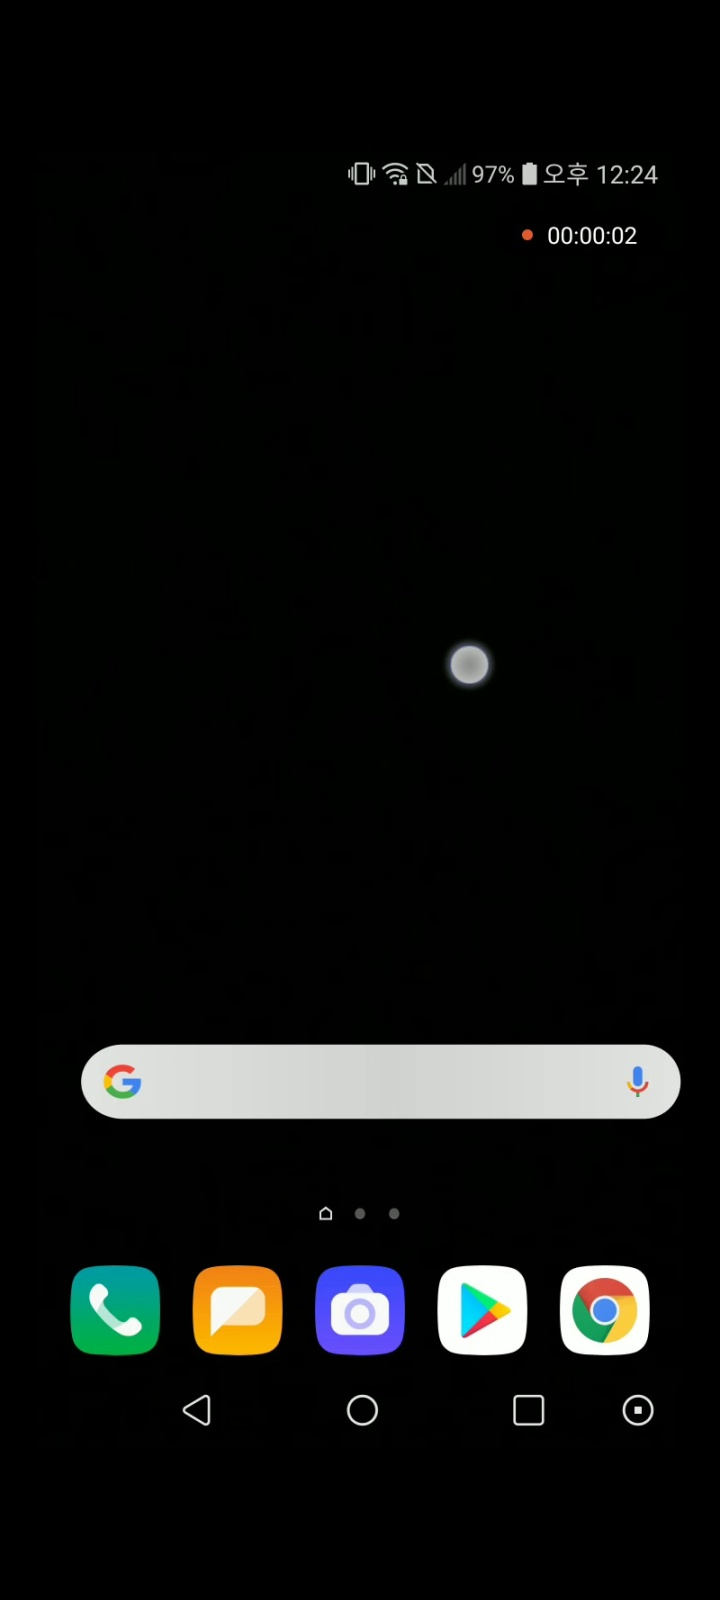Cursor: (448, 643, 493, 688)
